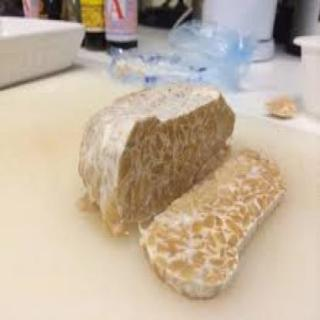Tempe: (73, 81, 291, 299)
